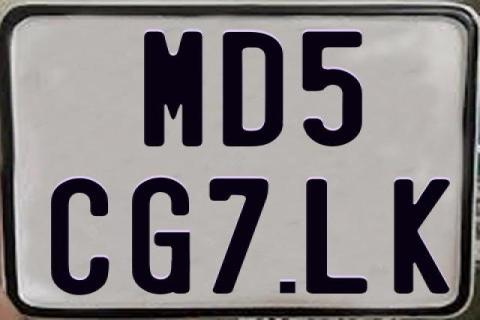0: (209, 177, 275, 293), (301, 31, 365, 147)
C: (50, 177, 110, 295)
D: (221, 30, 283, 148)
G: (130, 177, 190, 296)
K: (394, 177, 450, 293)
L: (304, 177, 370, 297)
M: (142, 29, 204, 145)
